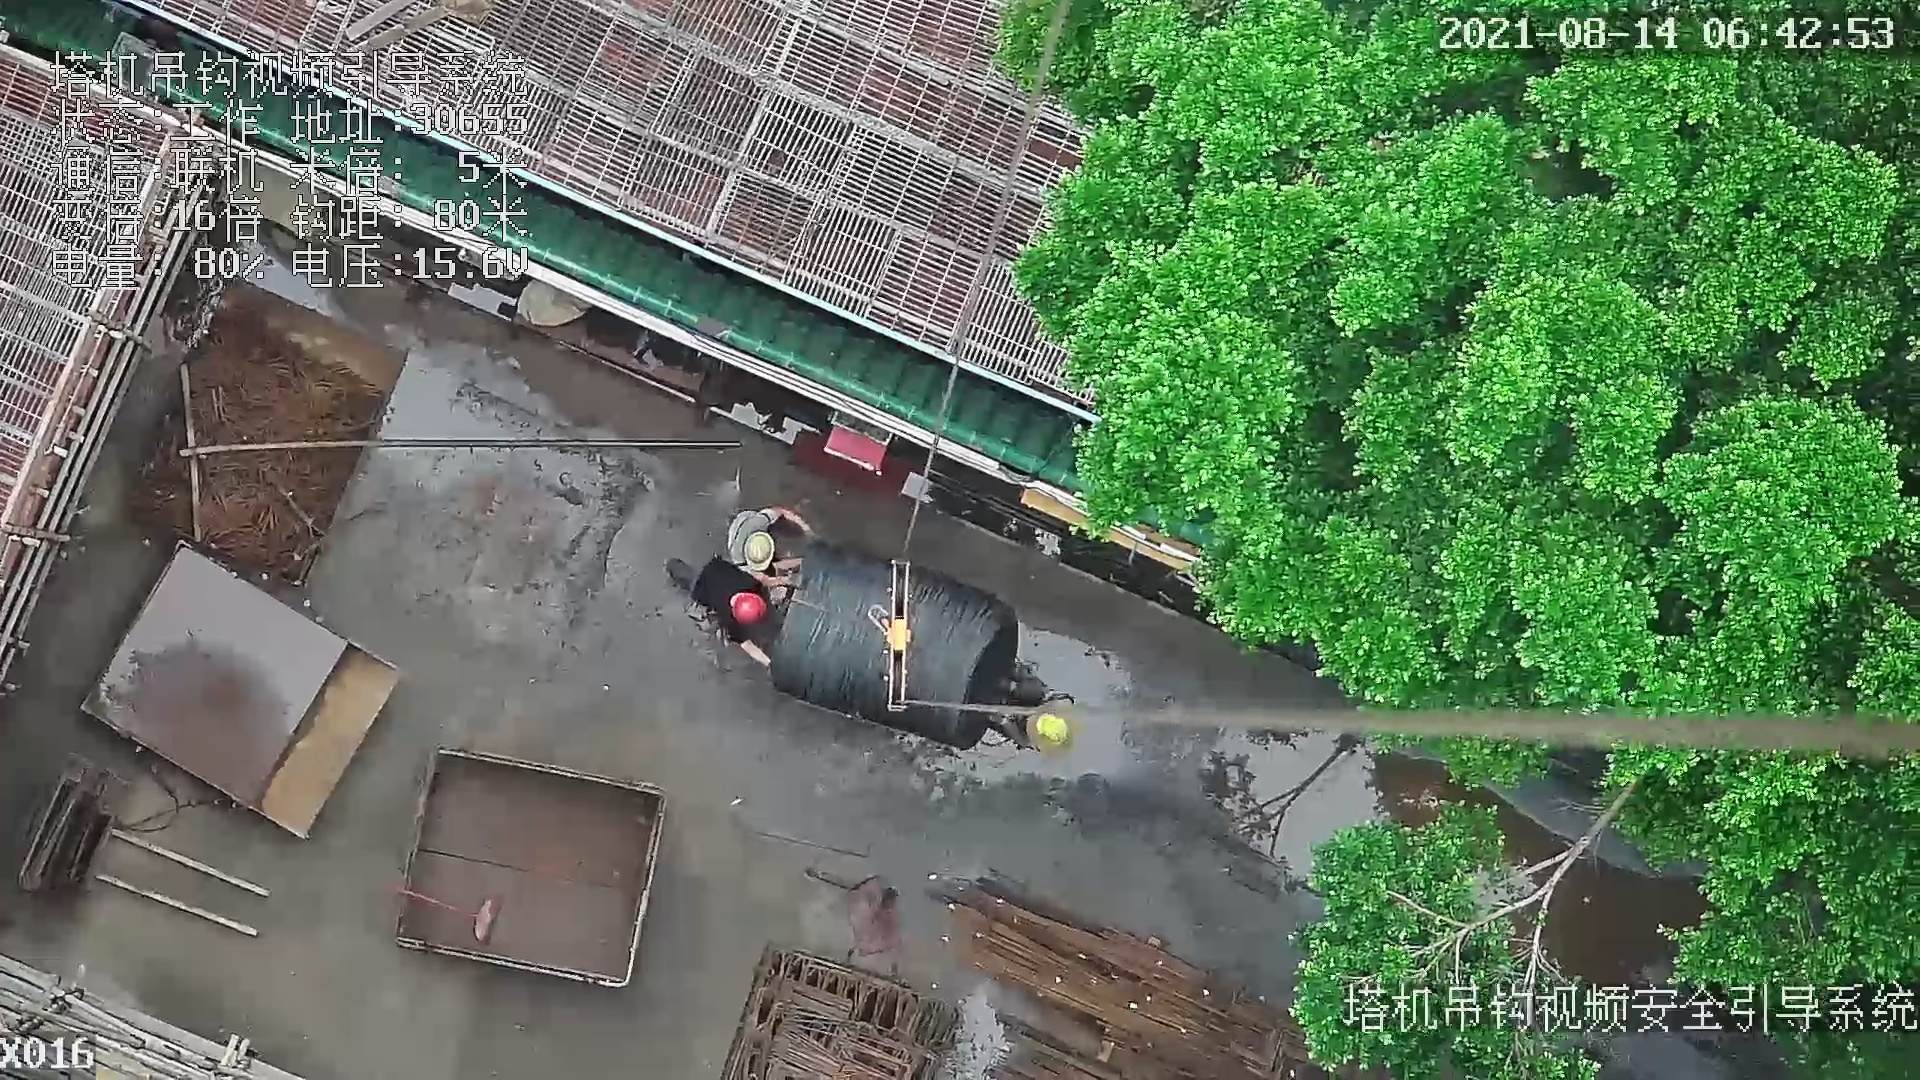helmet: (741, 528, 778, 568), (730, 585, 766, 628), (1034, 709, 1071, 748)
hook: (863, 549, 922, 714)
person: (668, 545, 787, 672), (979, 659, 1076, 755), (720, 501, 810, 590)
